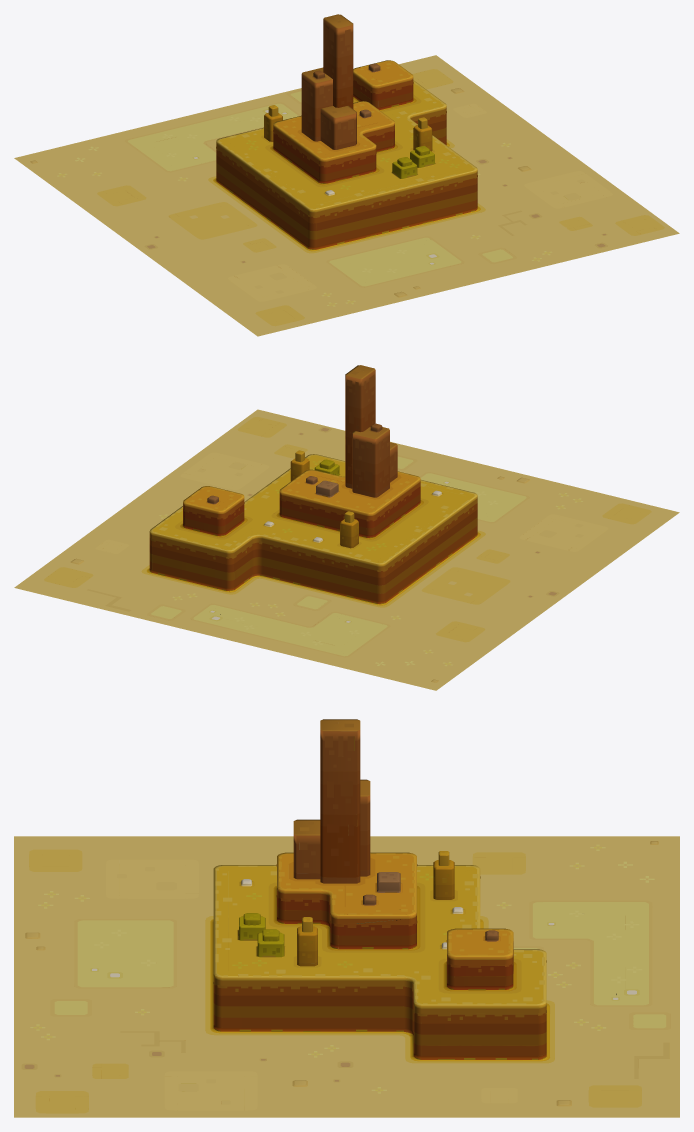
Rendered from C_mountain1_05.fbx.
3 renders of one model, top to bottom at view 1: azimuth 30°, elevation 25°; view 2: azimuth 150°, elevation 25°; view 3: azimuth 270°, elevation 25°, orthographic. The views are drawn at different scales.
Visible parts, largest first — view 1: C_mountain1_05.002; view 2: C_mountain1_05.002; view 3: C_mountain1_05.002.
Boxes of the visible parts, box(x1,y1,x2,y2) form: C_mountain1_05.002: box(14, 14, 679, 336); C_mountain1_05.002: box(14, 365, 679, 690); C_mountain1_05.002: box(14, 719, 679, 1117).
Size of the model in its own units: 50 by 20.38 by 50.
Materials: 1 (1 with a texture image).
